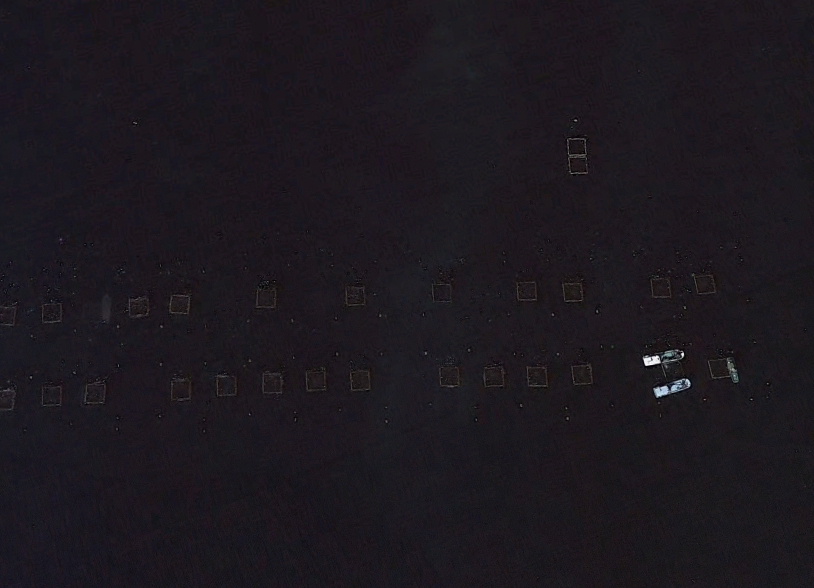ship: (638, 343, 689, 368), (649, 380, 696, 399), (725, 354, 742, 385)
square: (565, 354, 602, 391), (643, 264, 678, 300), (163, 371, 200, 405), (255, 363, 289, 400), (300, 363, 336, 397), (477, 359, 512, 393), (656, 354, 691, 388), (702, 347, 732, 386), (36, 376, 68, 411), (211, 368, 243, 403), (249, 279, 282, 312), (80, 376, 113, 409), (435, 360, 468, 393), (523, 357, 554, 392), (165, 288, 195, 322), (123, 290, 155, 321), (36, 299, 68, 329), (346, 363, 376, 395), (689, 268, 721, 297), (558, 276, 588, 306), (514, 274, 542, 306), (560, 153, 597, 177), (429, 277, 459, 306), (562, 131, 592, 159), (341, 283, 371, 308)
